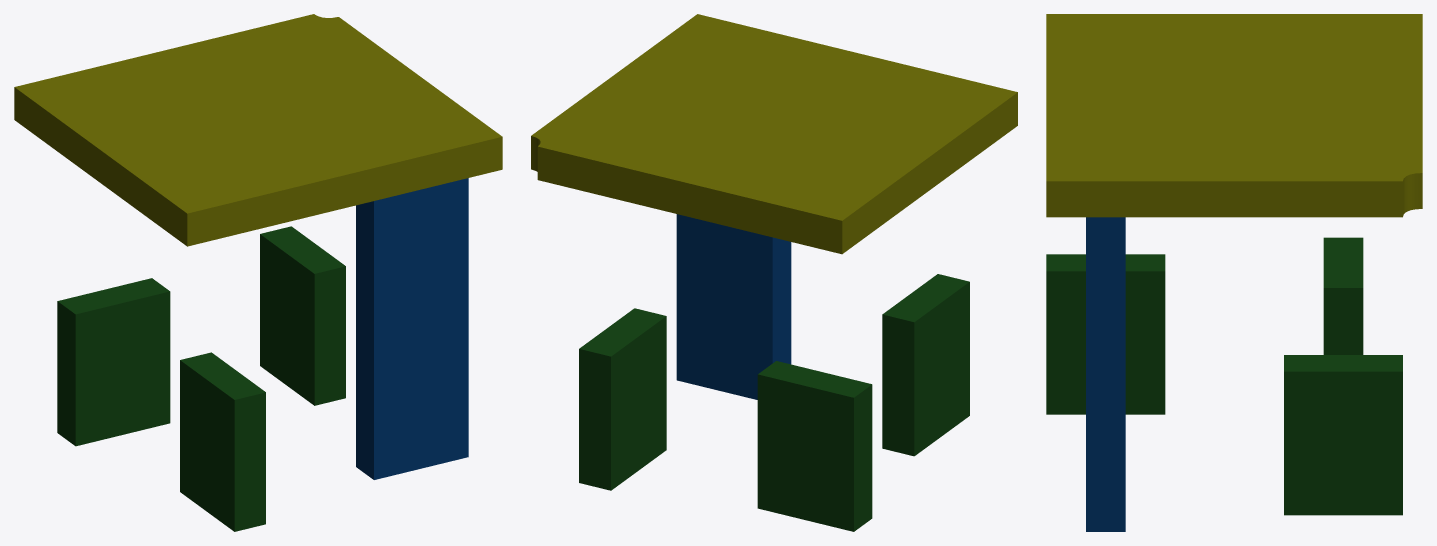
The model's file is T9DirB.fbx.
The picture shows the model from 3 angles, left to right: view 1: azimuth 30°, elevation 25°; view 2: azimuth 150°, elevation 25°; view 3: azimuth 270°, elevation 25°; orthographic projection. The views are drawn at different scales.
Parts seen in each view (by area): view 1: 1, 3, 4, 2; view 2: 4, 2, 1, 3; view 3: 2, 1, 3, 4.
Boxes of the visible parts, <box> form: 1: <box>259,73,502,479</box>; 3: <box>101,112,344,531</box>; 4: <box>14,48,257,446</box>; 2: <box>172,14,415,405</box>; 4: <box>682,117,929,531</box>; 2: <box>531,78,769,490</box>; 1: <box>610,14,857,399</box>; 3: <box>770,53,1017,456</box>; 2: <box>1234,97,1422,515</box>; 1: <box>1046,97,1234,531</box>; 3: <box>1046,14,1234,414</box>; 4: <box>1234,14,1422,354</box>.
Bounding box in the file's own units: 200 × 200 × 190.
